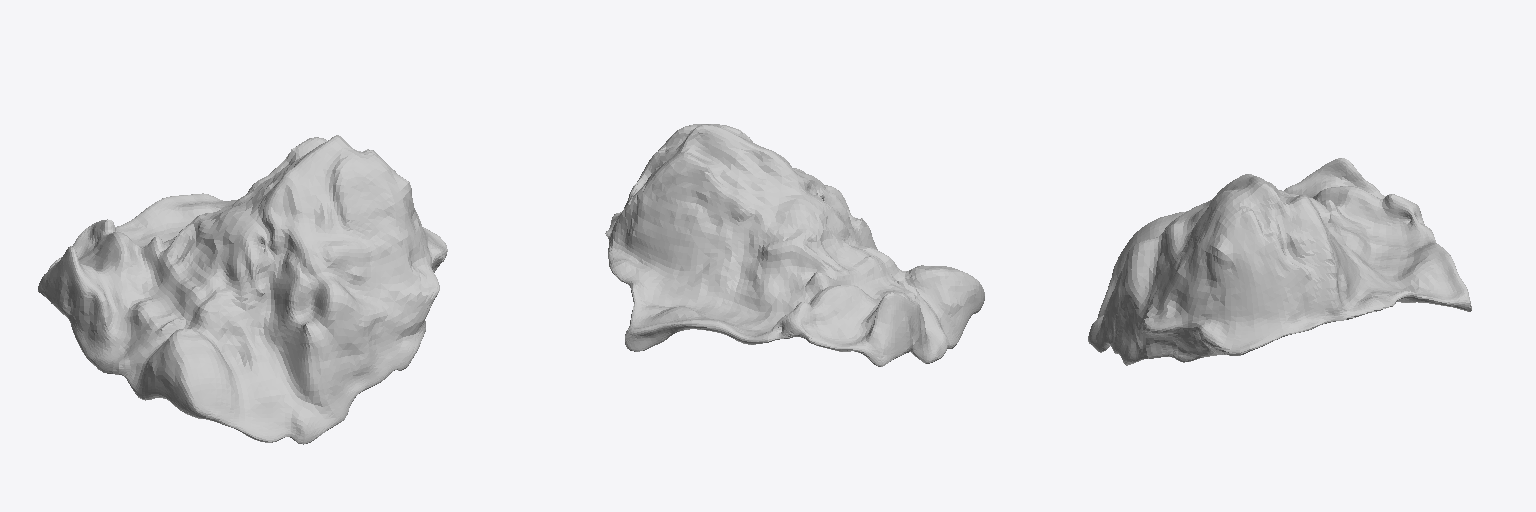
The model's file is db59626fee18_Large_Boulder_Mount.obj.
3 views of the same model, side by side, from view 1: azimuth 30°, elevation 25°; view 2: azimuth 150°, elevation 25°; view 3: azimuth 270°, elevation 25° (orthographic).
Parts seen in each view (by area): view 1: mesh; view 2: mesh; view 3: mesh.
Part boxes in pixels (left/top/right/bottom): mesh: left=38, top=135, right=447, bottom=444; mesh: left=605, top=124, right=984, bottom=366; mesh: left=1088, top=158, right=1471, bottom=365.
Bounding box in the file's own units: 0.9961 × 0.6012 × 0.9725.